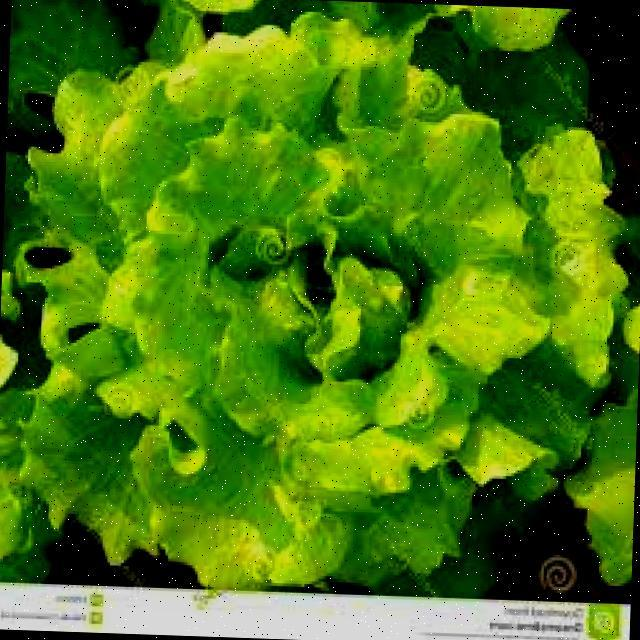healthy: (32, 9, 548, 480)
